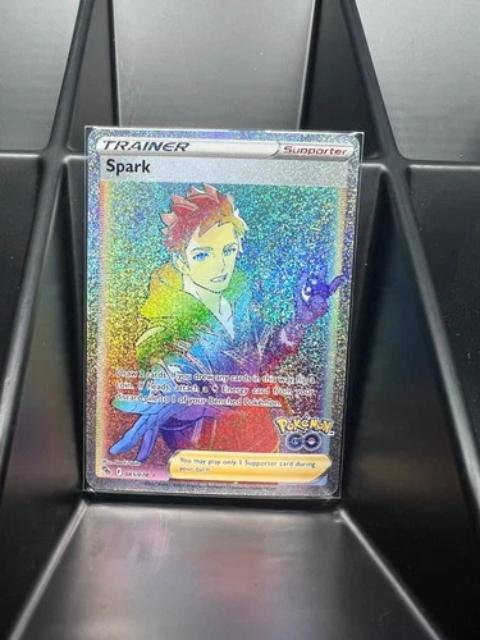Card: (84, 124, 365, 499)
Name: (102, 155, 157, 180)
